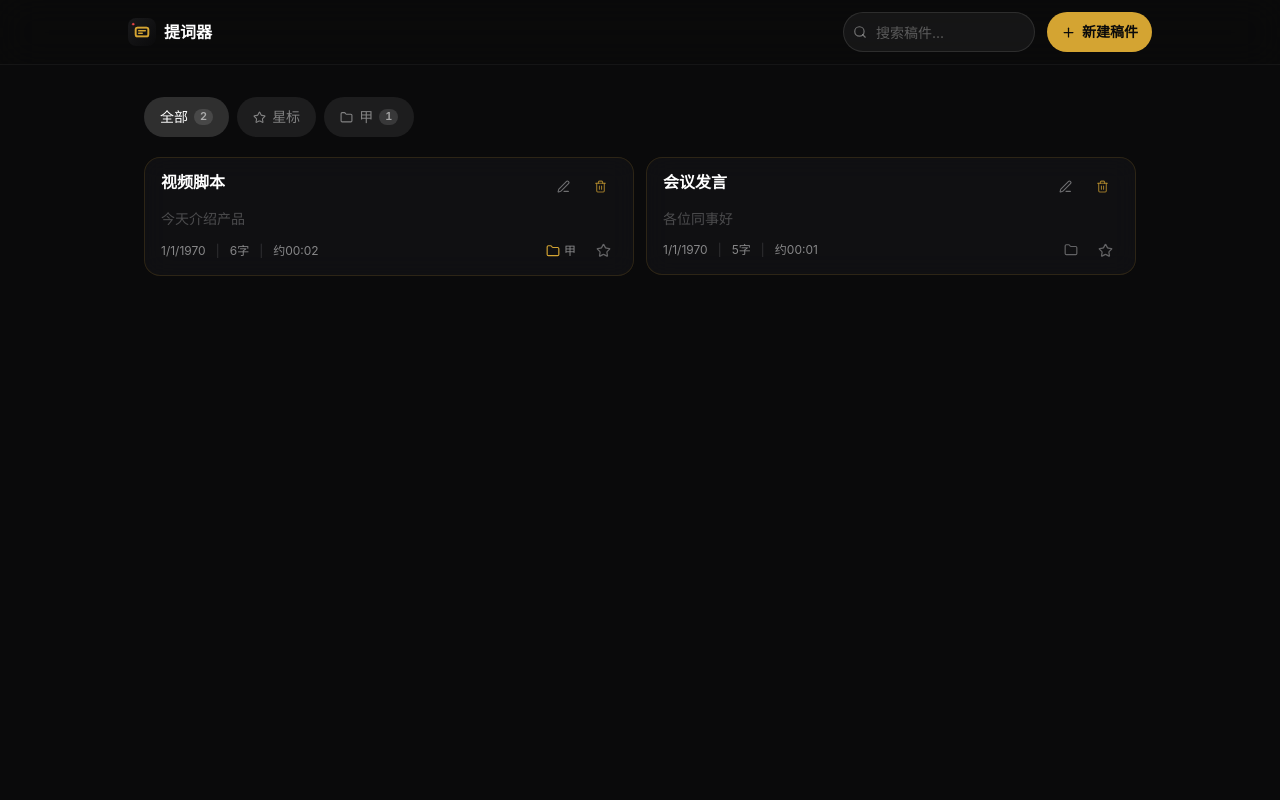
Test: ScriptList › 多选：批量移动弹层应用到全部选中项
Press the mouse on the element showing "会议发言 各位同事好 1/1/1970 | 5字 | 约00:01" at (891, 216), box [646, 157, 1136, 275]
Wait 520 ms
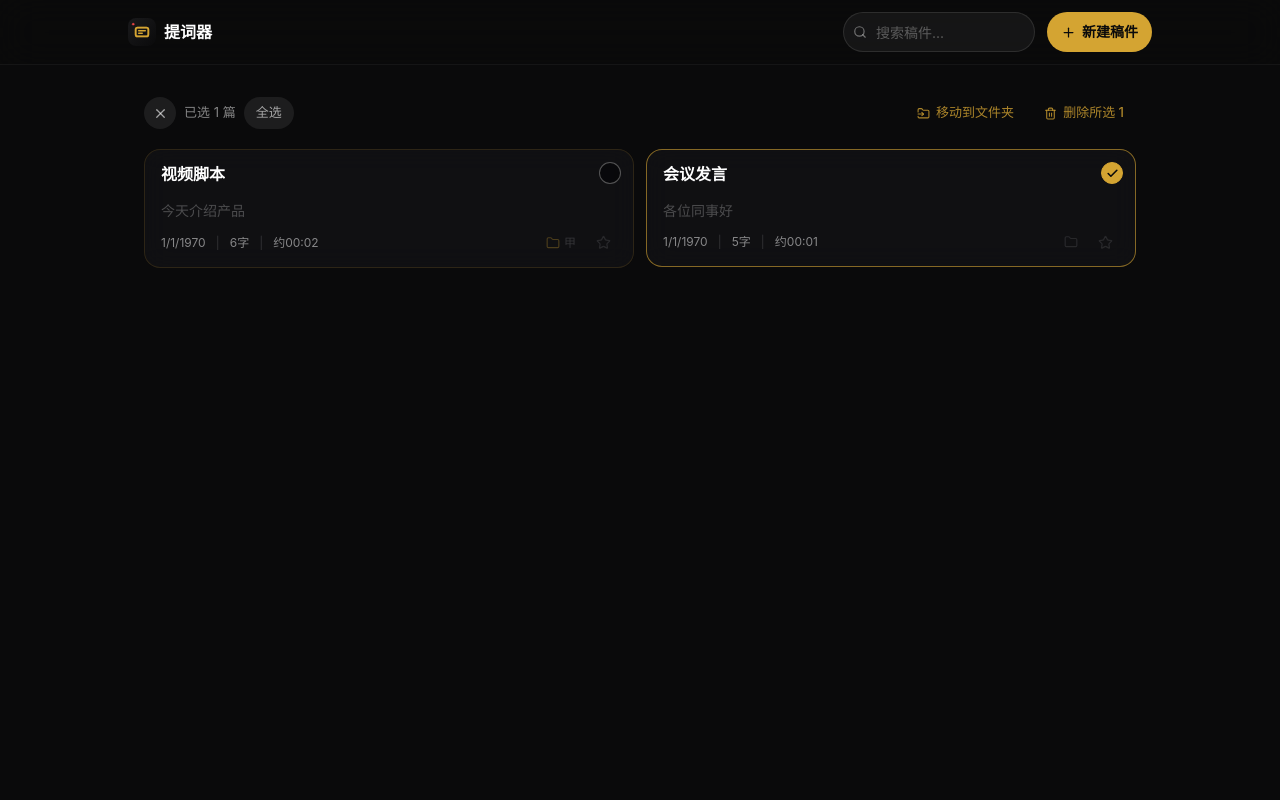
Click the heading "视频脚本". click: click(193, 174)
box: [161, 162, 225, 186]
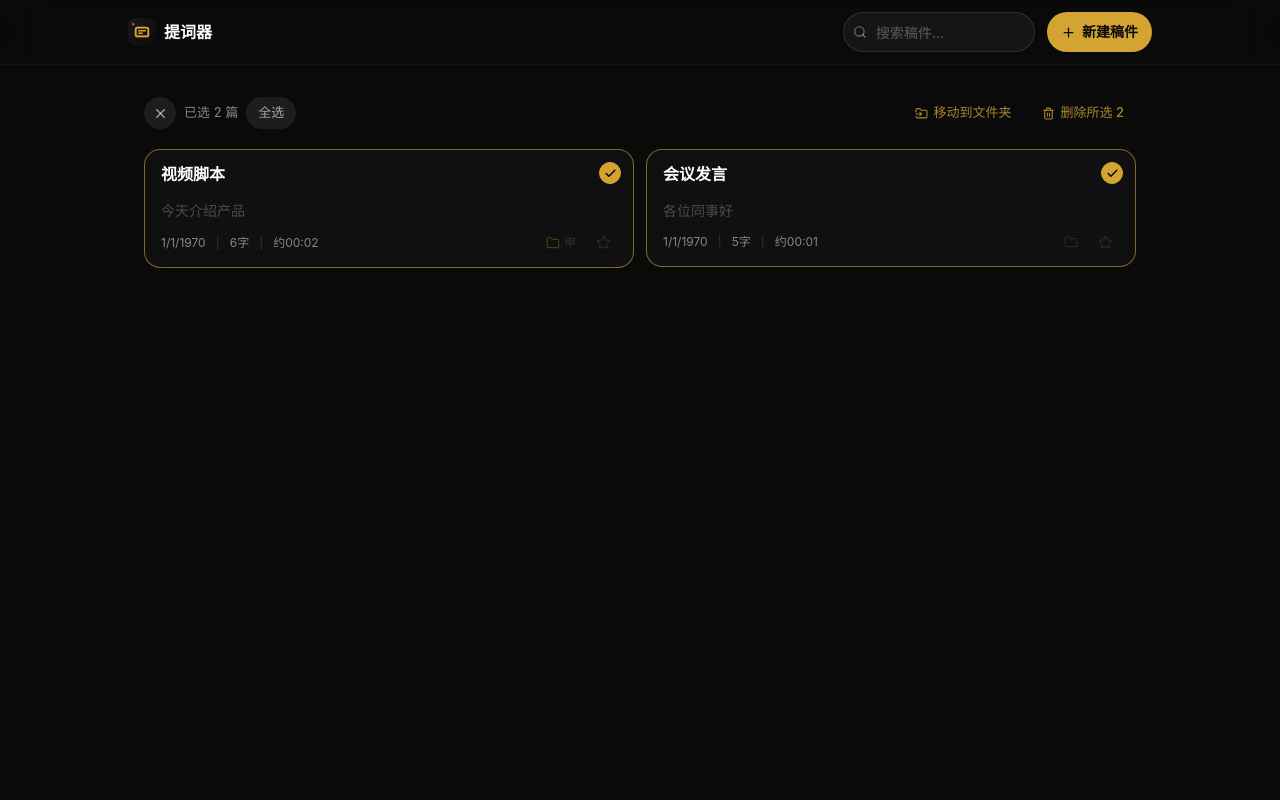
Click the button "移动到文件夹". click: click(963, 113)
box: [902, 97, 1024, 129]
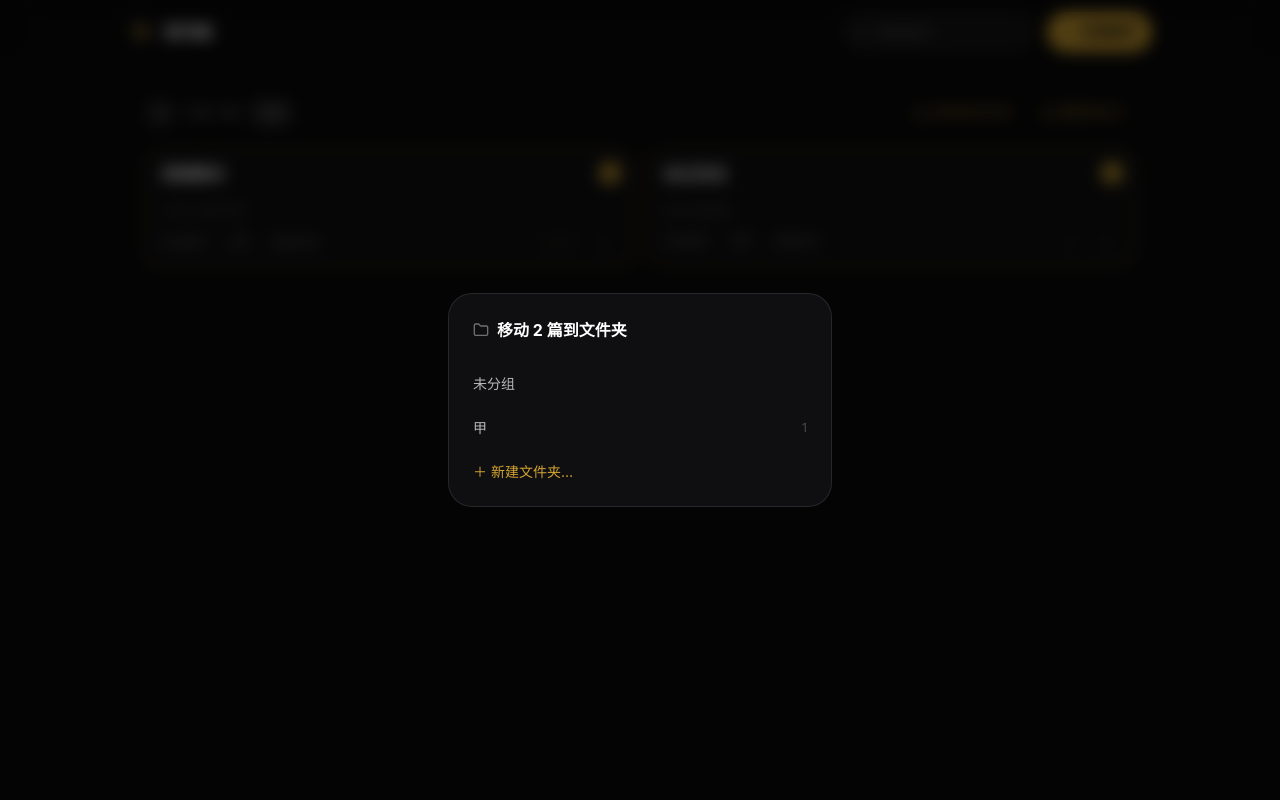
Expected: the heading "移动 2 篇到文件夹" is shown, [473, 320, 627, 340]
Click the text "甲". click: click(480, 428)
box: [473, 418, 487, 438]
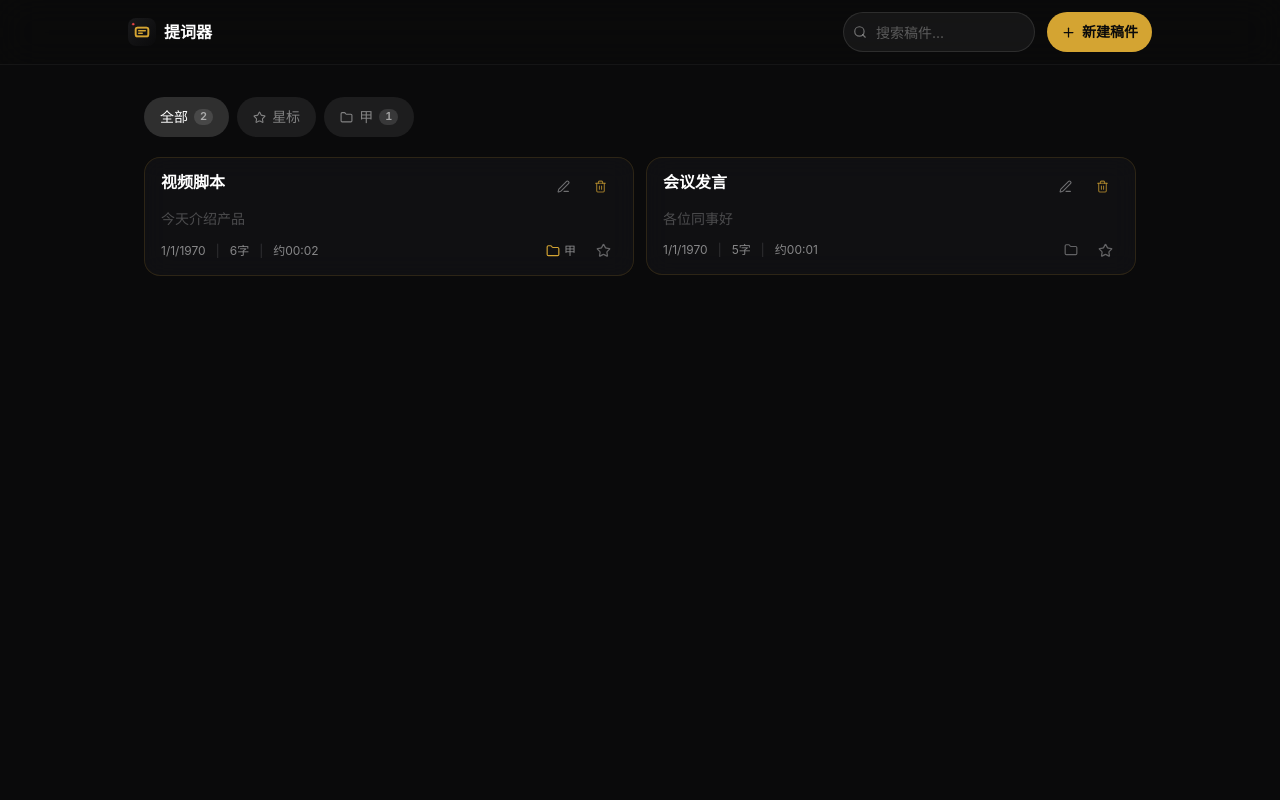
Expected: the element with test id "folder-sheet" is gone
